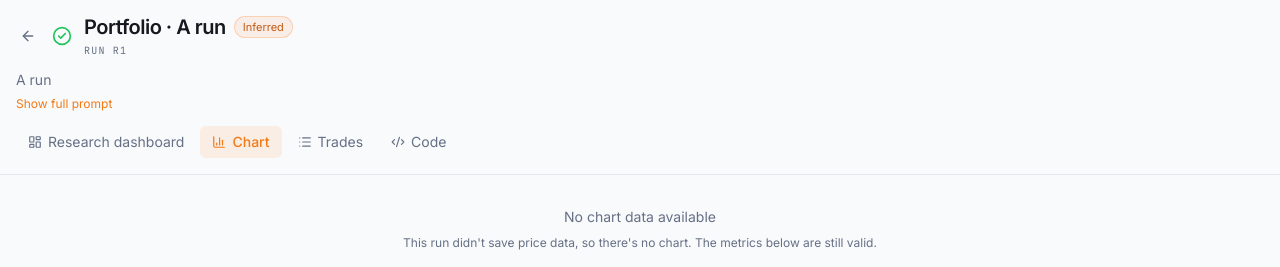
Scenario: a failed code load says so in the Code tab instead of 'no code files'
Expected: the text "A run" is shown, 16,71 -> 51,88
Click the tab "Code".
click(419, 142)  # box 379,126 -> 458,158
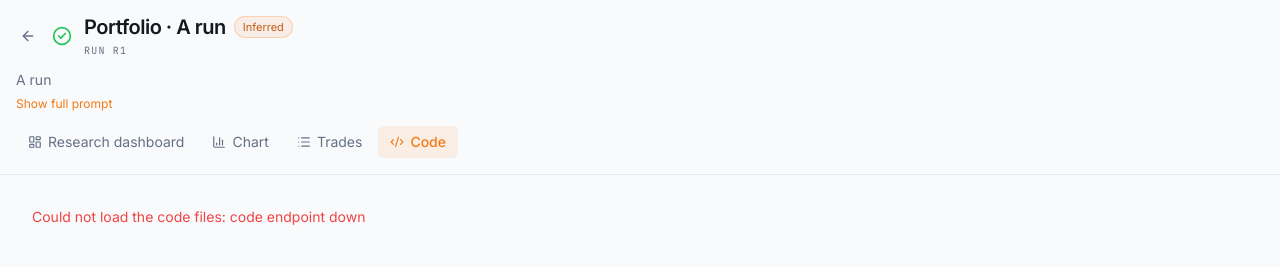
Expected: the text "Could not load the code files: code endpoint down" is shown, 32,208 -> 366,225
